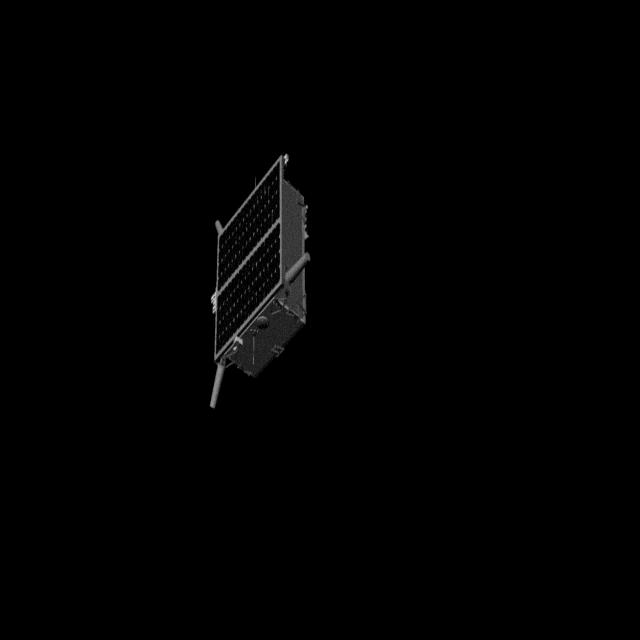medium_debris: (192, 152, 308, 412)
